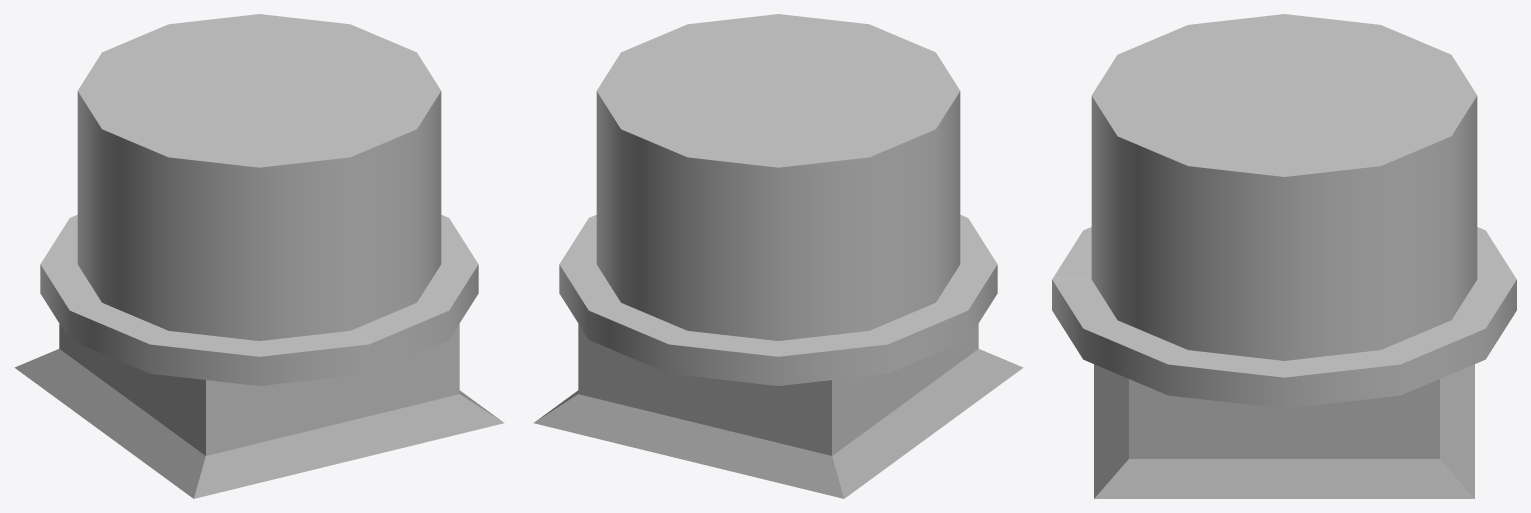
The model's file is SM_Conditioner_04.FBX.
The picture shows the model from 3 angles, left to right: view 1: azimuth 30°, elevation 25°; view 2: azimuth 150°, elevation 25°; view 3: azimuth 270°, elevation 25°; orthographic projection. The views are drawn at different scales.
Visible parts, largest first — view 1: SM_Conditioner_04; view 2: SM_Conditioner_04; view 3: SM_Conditioner_04.
Boxes of the visible parts, bbox=[...] form: SM_Conditioner_04: bbox=[14, 14, 504, 498]; SM_Conditioner_04: bbox=[533, 14, 1023, 498]; SM_Conditioner_04: bbox=[1052, 14, 1516, 498].
Size of the model in its own units: 52.13 by 52.13 by 39.98.
